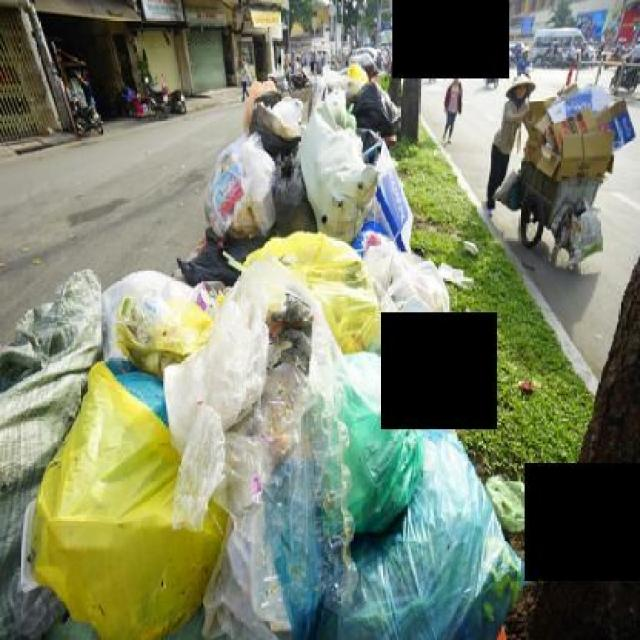plastic bag: (0, 227, 551, 636), (0, 324, 278, 637), (183, 125, 292, 280), (289, 89, 391, 242), (357, 114, 420, 254), (348, 50, 400, 156), (483, 464, 537, 536), (435, 254, 474, 291)
